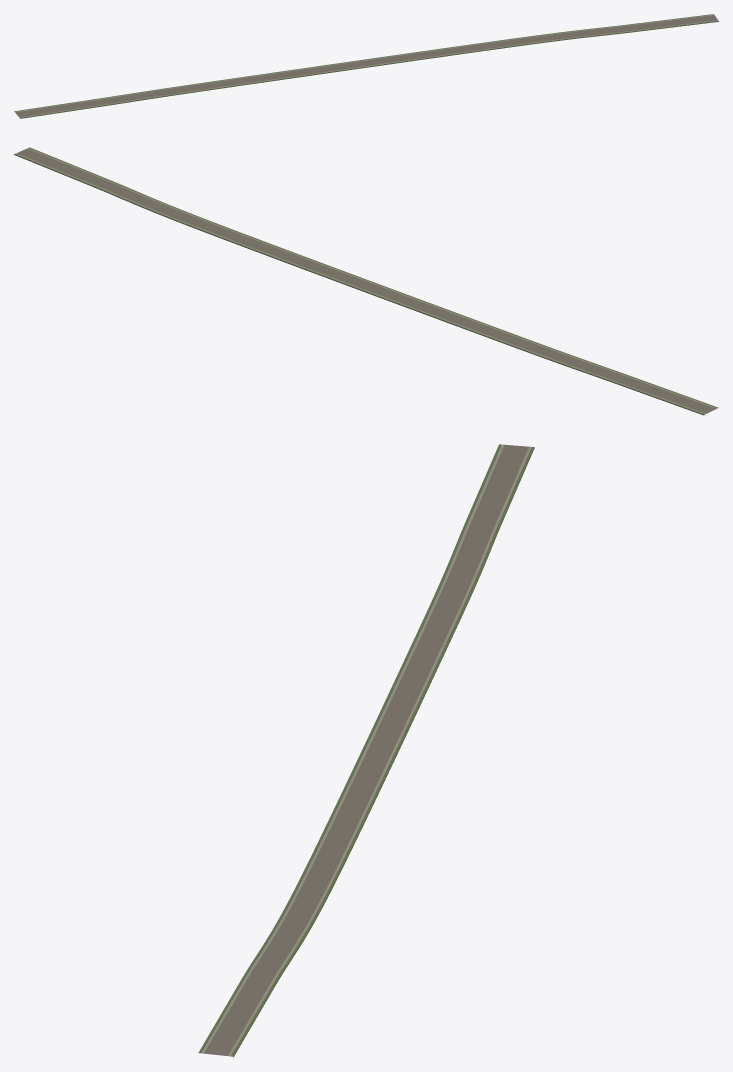
Rendered from road_roam_to2_autumn_glen.glb.
The picture shows the model from 3 angles, top to bottom: view 1: azimuth 30°, elevation 25°; view 2: azimuth 150°, elevation 25°; view 3: azimuth 270°, elevation 25°; orthographic projection. The views are drawn at different scales.
Visible parts, largest first — view 1: road; view 2: road; view 3: road.
Boxes of the visible parts, left/top/right/bottom form: road: left=14, top=14, right=718, bottom=118; road: left=14, top=147, right=718, bottom=415; road: left=198, top=444, right=534, bottom=1057.
Size of the model in its own units: 480 by 0.32 by 111.
